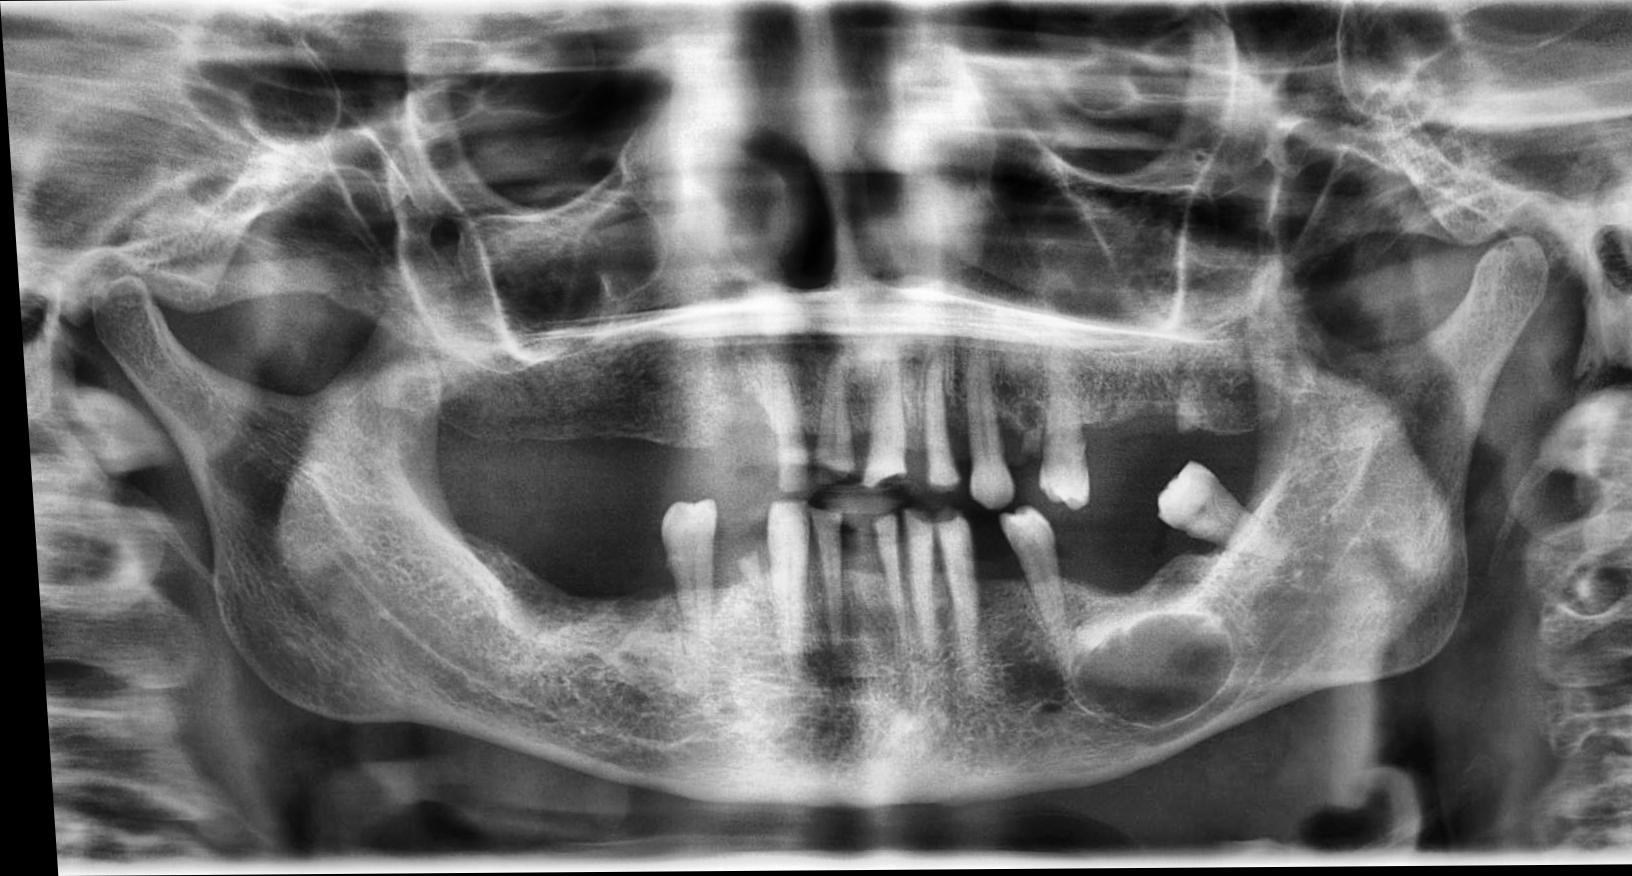okc: (1053, 612, 1229, 730)
